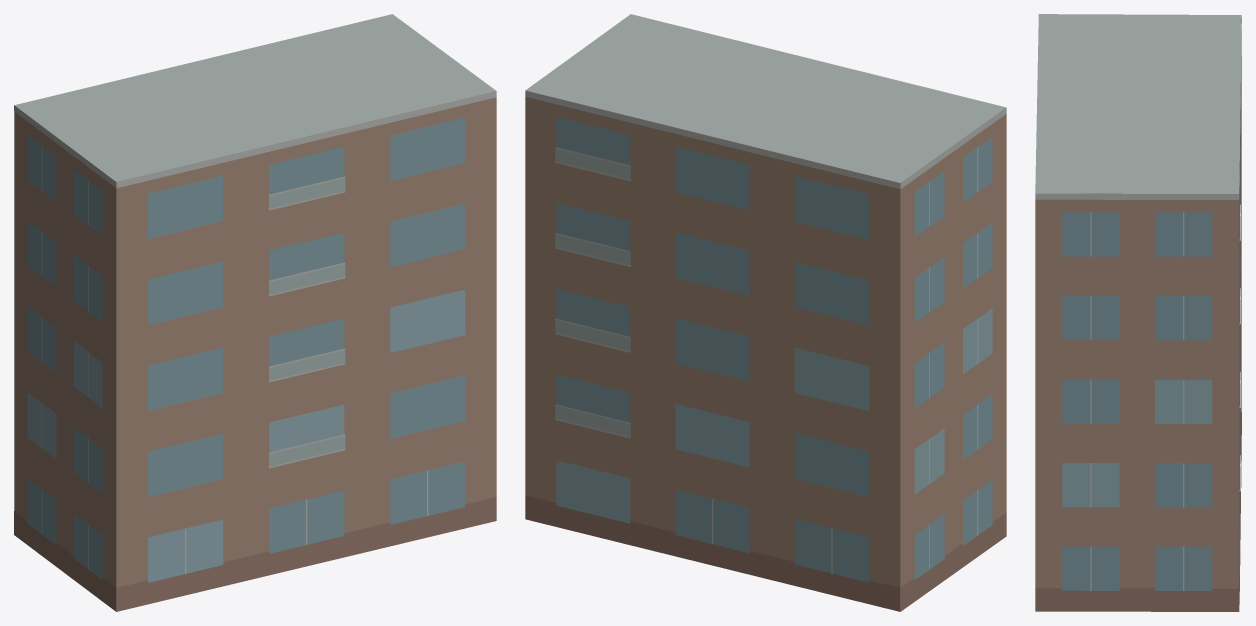
File: survey-upis-33039050.glb
3 renders of one model, left to right at view 1: azimuth 30°, elevation 25°; view 2: azimuth 150°, elevation 25°; view 3: azimuth 270°, elevation 25°, orthographic. The views are drawn at different scales.
Visible parts, largest first — view 1: survey-upis-33039050.tmp; view 2: survey-upis-33039050.tmp; view 3: survey-upis-33039050.tmp.
Part boxes in pixels (x1,y1,x2,y2): survey-upis-33039050.tmp: [14, 14, 496, 611]; survey-upis-33039050.tmp: [525, 14, 1006, 611]; survey-upis-33039050.tmp: [1035, 14, 1241, 611].
Size of the model in its own units: 15.53 by 16.8 by 7.53.
